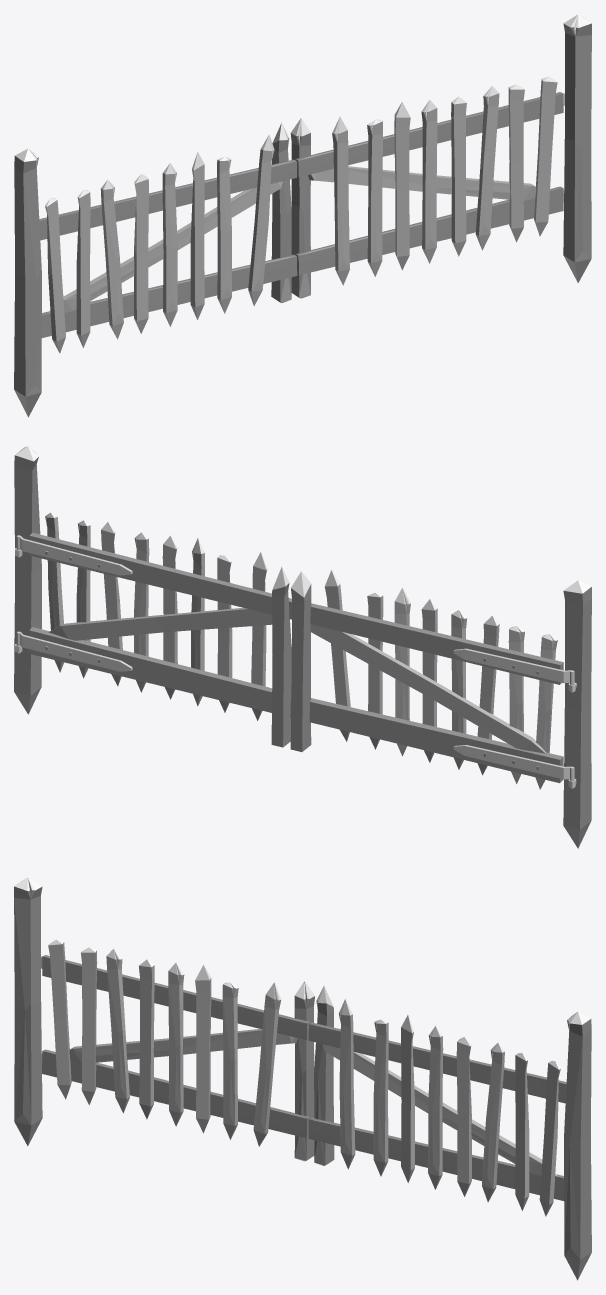
File: PT_Modular_Gate_Wood_01.glb
The picture shows the model from 3 angles, top to bottom: view 1: azimuth 30°, elevation 25°; view 2: azimuth 150°, elevation 25°; view 3: azimuth 330°, elevation 25°; orthographic projection.
Parts seen in each view (by area): view 1: PT_Modular_Gate_Wood_01_right, PT_Modular_Gate_Wood_01_left, PT_Modular_Gate_Wood_01_poles; view 2: PT_Modular_Gate_Wood_01_left, PT_Modular_Gate_Wood_01_right, PT_Modular_Gate_Wood_01_poles; view 3: PT_Modular_Gate_Wood_01_left, PT_Modular_Gate_Wood_01_right, PT_Modular_Gate_Wood_01_poles.
Part boxes in pixels (x1,y1,x2,y2): PT_Modular_Gate_Wood_01_right: (290,76,564,298); PT_Modular_Gate_Wood_01_left: (39,123,297,353); PT_Modular_Gate_Wood_01_poles: (14,14,591,417); PT_Modular_Gate_Wood_01_left: (290,570,574,789); PT_Modular_Gate_Wood_01_right: (16,512,291,747); PT_Modular_Gate_Wood_01_poles: (14,446,591,848); PT_Modular_Gate_Wood_01_left: (41,939,314,1161); PT_Modular_Gate_Wood_01_right: (308,985,566,1216); PT_Modular_Gate_Wood_01_poles: (14,877,591,1280).
Size of the model in its own units: 5.1 by 2.3 by 0.3483.
Materials: 1 (1 with a texture image).
